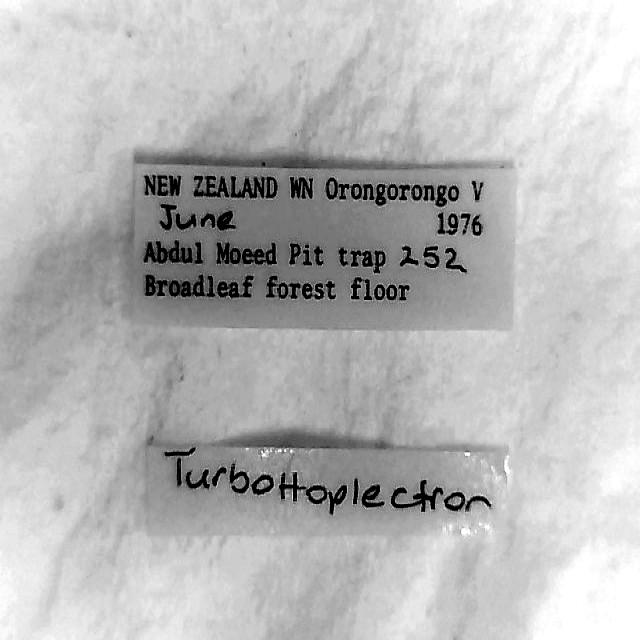hand_label: (148, 443, 508, 534)
mixed_label: (135, 157, 515, 328)
